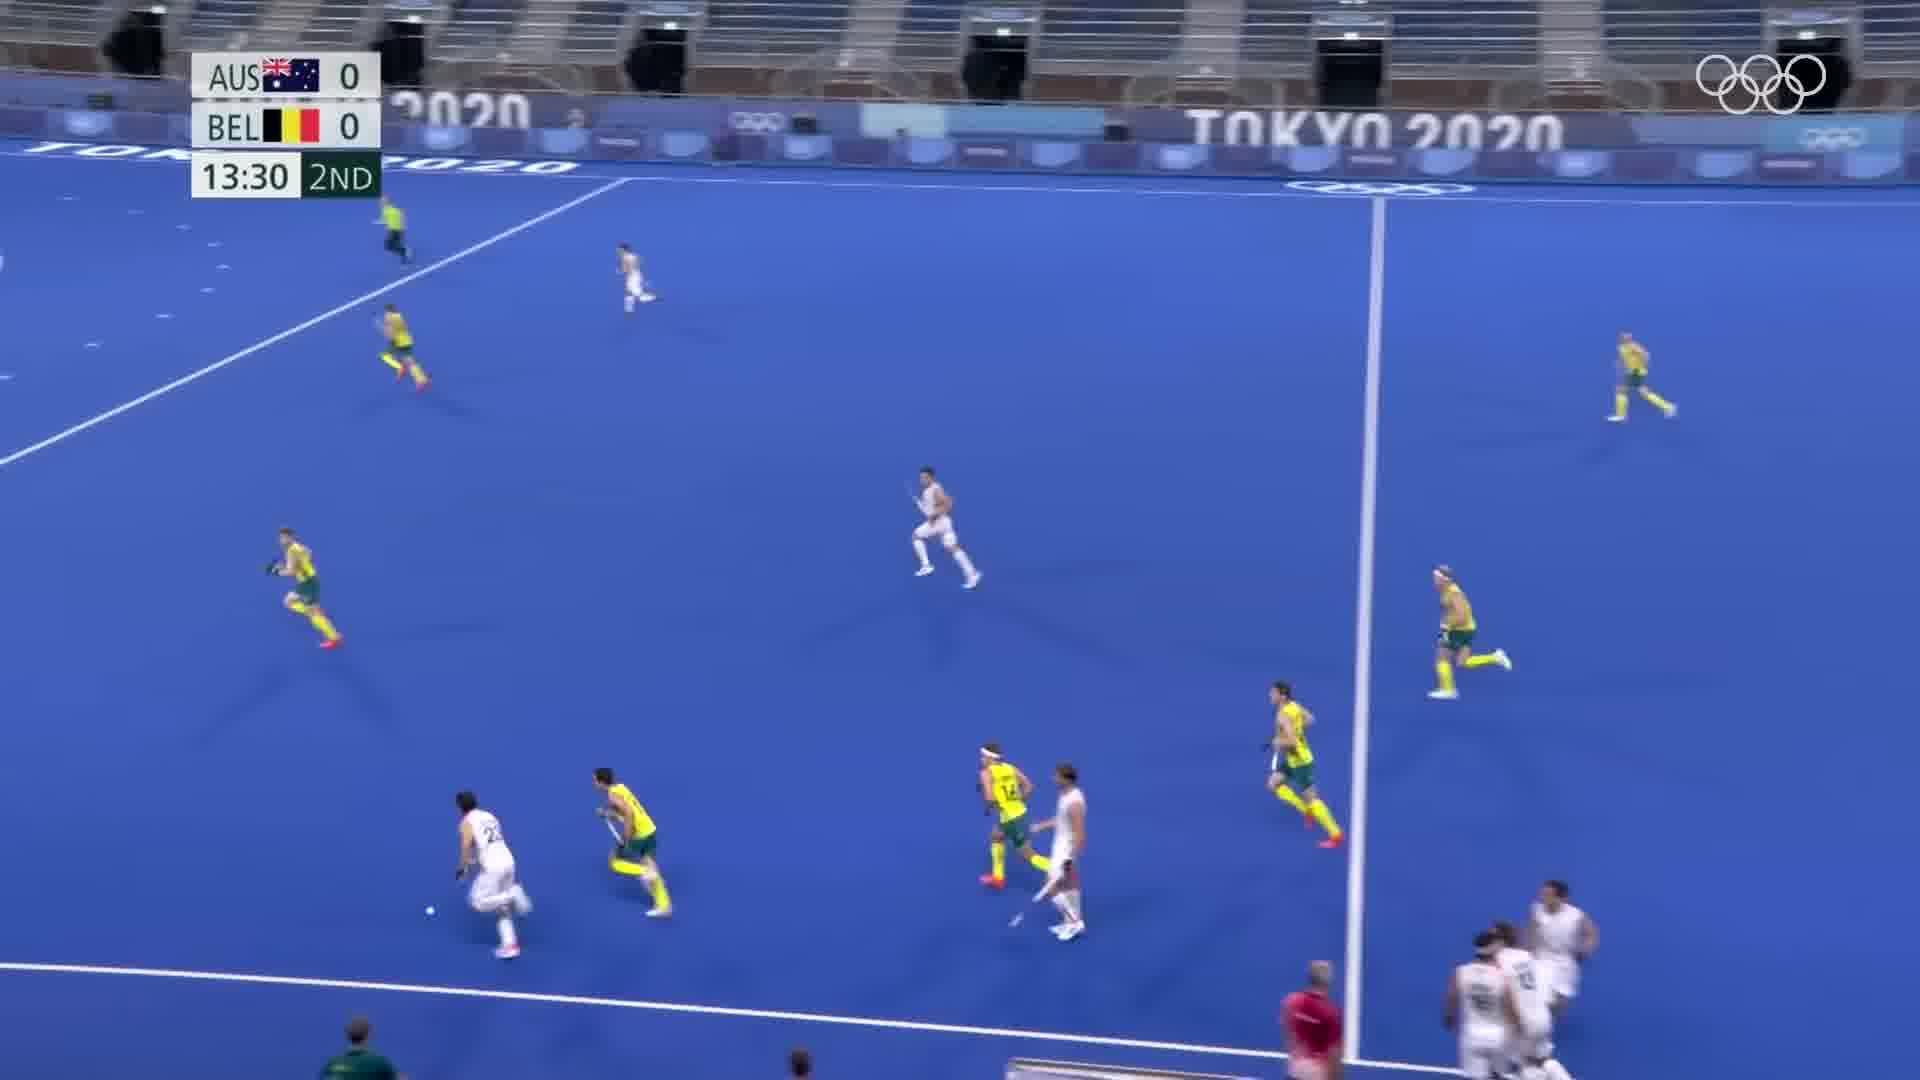ball: (416, 897, 445, 920)
